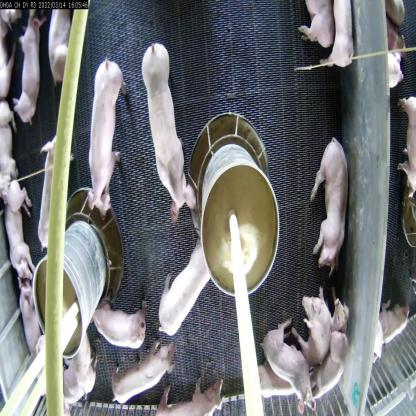Pig: (142, 37, 198, 223), (83, 53, 131, 230), (309, 125, 353, 276), (30, 132, 78, 259), (112, 333, 174, 405), (163, 246, 212, 336), (262, 326, 319, 400), (13, 7, 45, 130), (0, 178, 35, 270), (0, 89, 28, 198), (309, 330, 351, 402), (46, 7, 80, 90), (94, 302, 146, 351), (161, 379, 228, 416), (294, 287, 327, 361), (16, 292, 45, 367)
